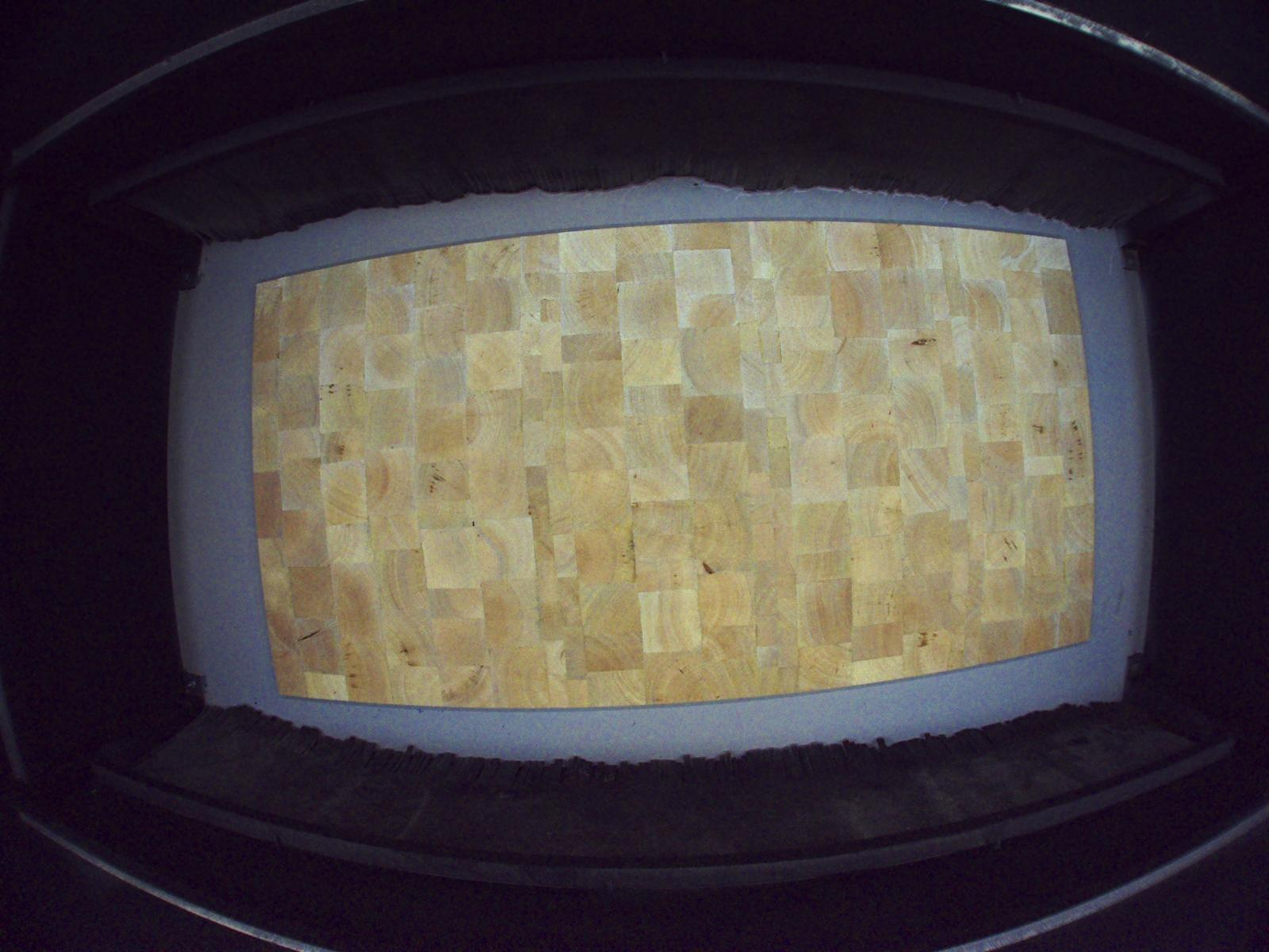nudillo: (909, 334, 939, 349)
sheck_ecuatoriano: (386, 625, 412, 660)
